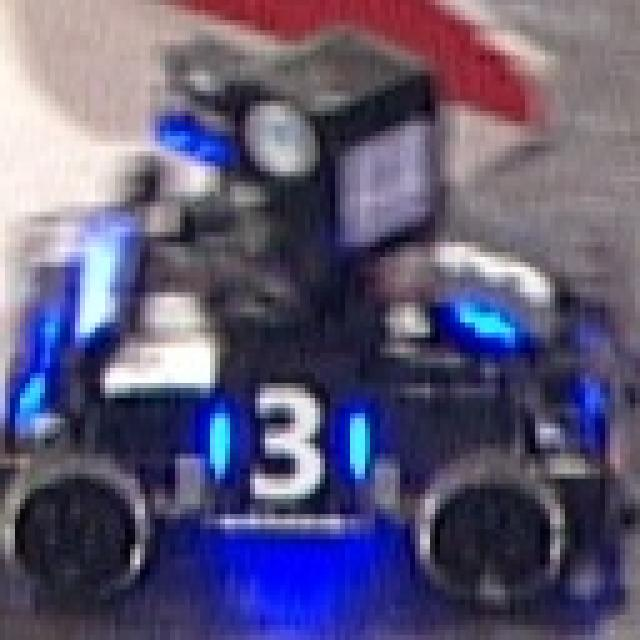B3: (205, 358, 380, 499), (425, 224, 570, 366)
